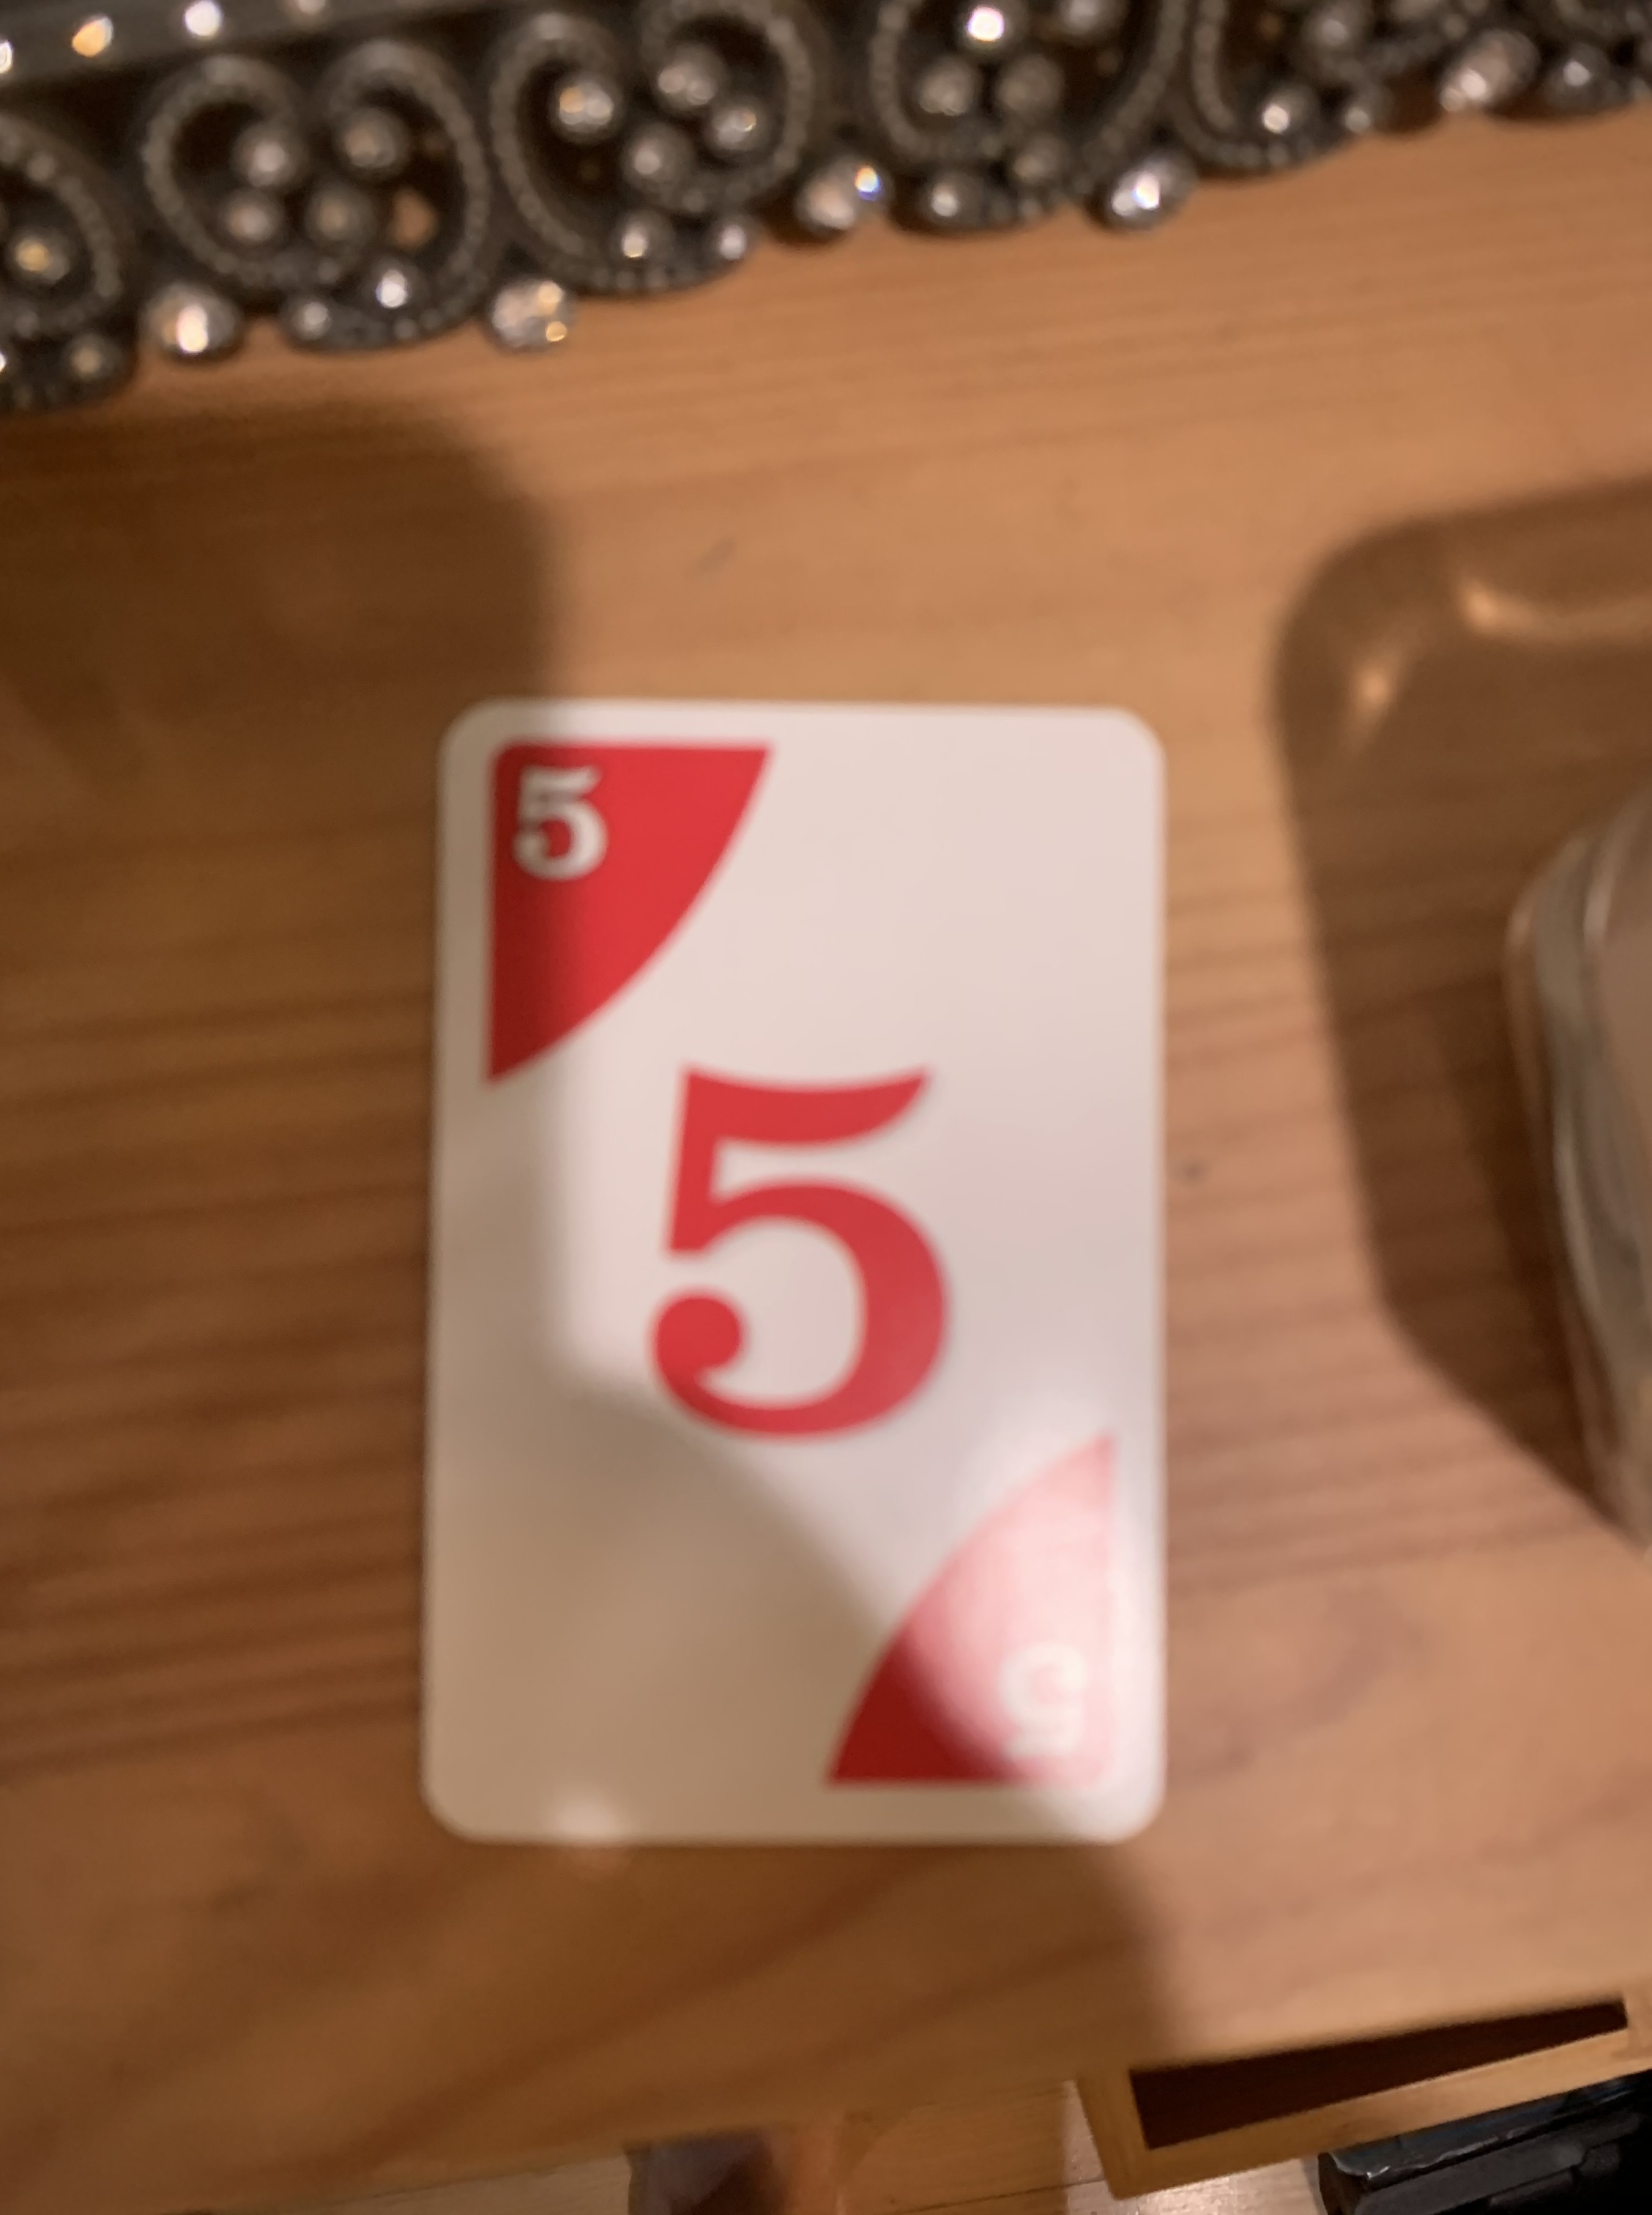five: (404, 686, 1206, 1864)
